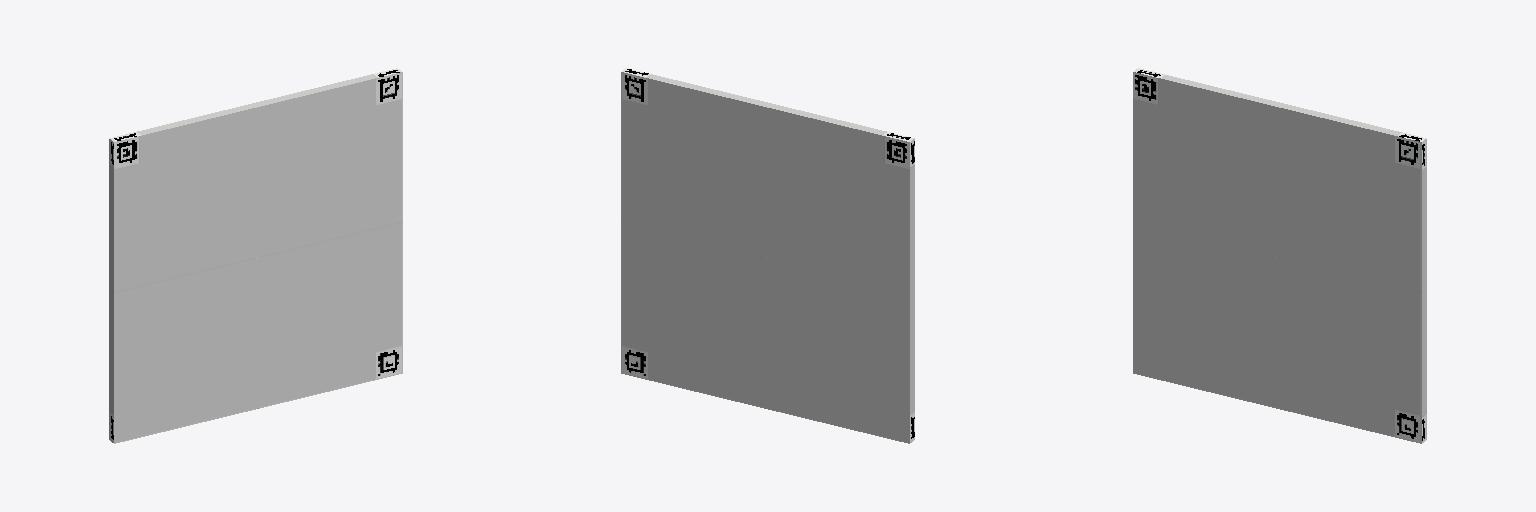
3 renders of one model, left to right at view 1: azimuth 30°, elevation 25°; view 2: azimuth 150°, elevation 25°; view 3: azimuth 330°, elevation 25°, orthographic.
Parts seen in each view (by area): view 1: Design Layer-1; view 2: Design Layer-1; view 3: Design Layer-1.
Boxes of the visible parts, <box> form: Design Layer-1: <box>109,68,402,443</box>; Design Layer-1: <box>621,68,914,443</box>; Design Layer-1: <box>1133,68,1426,443</box>.
Size of the model in its own units: 610 by 610 by 19.05.
1 materials, 1 textured.